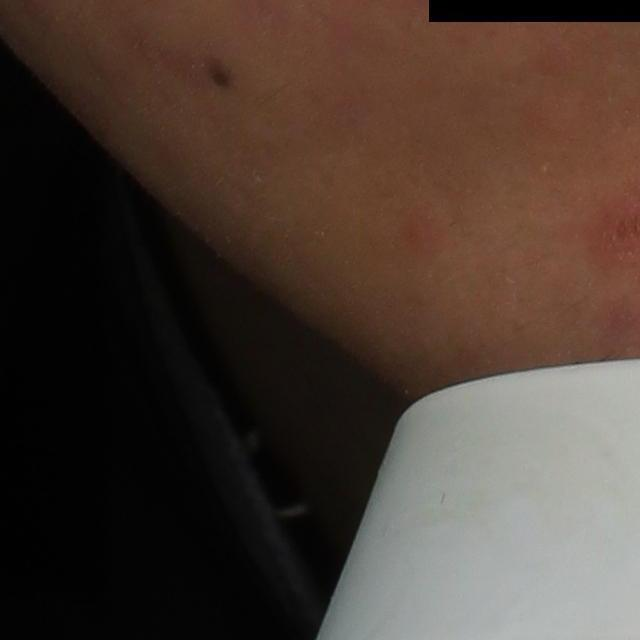nevus: (206, 58, 236, 86)
